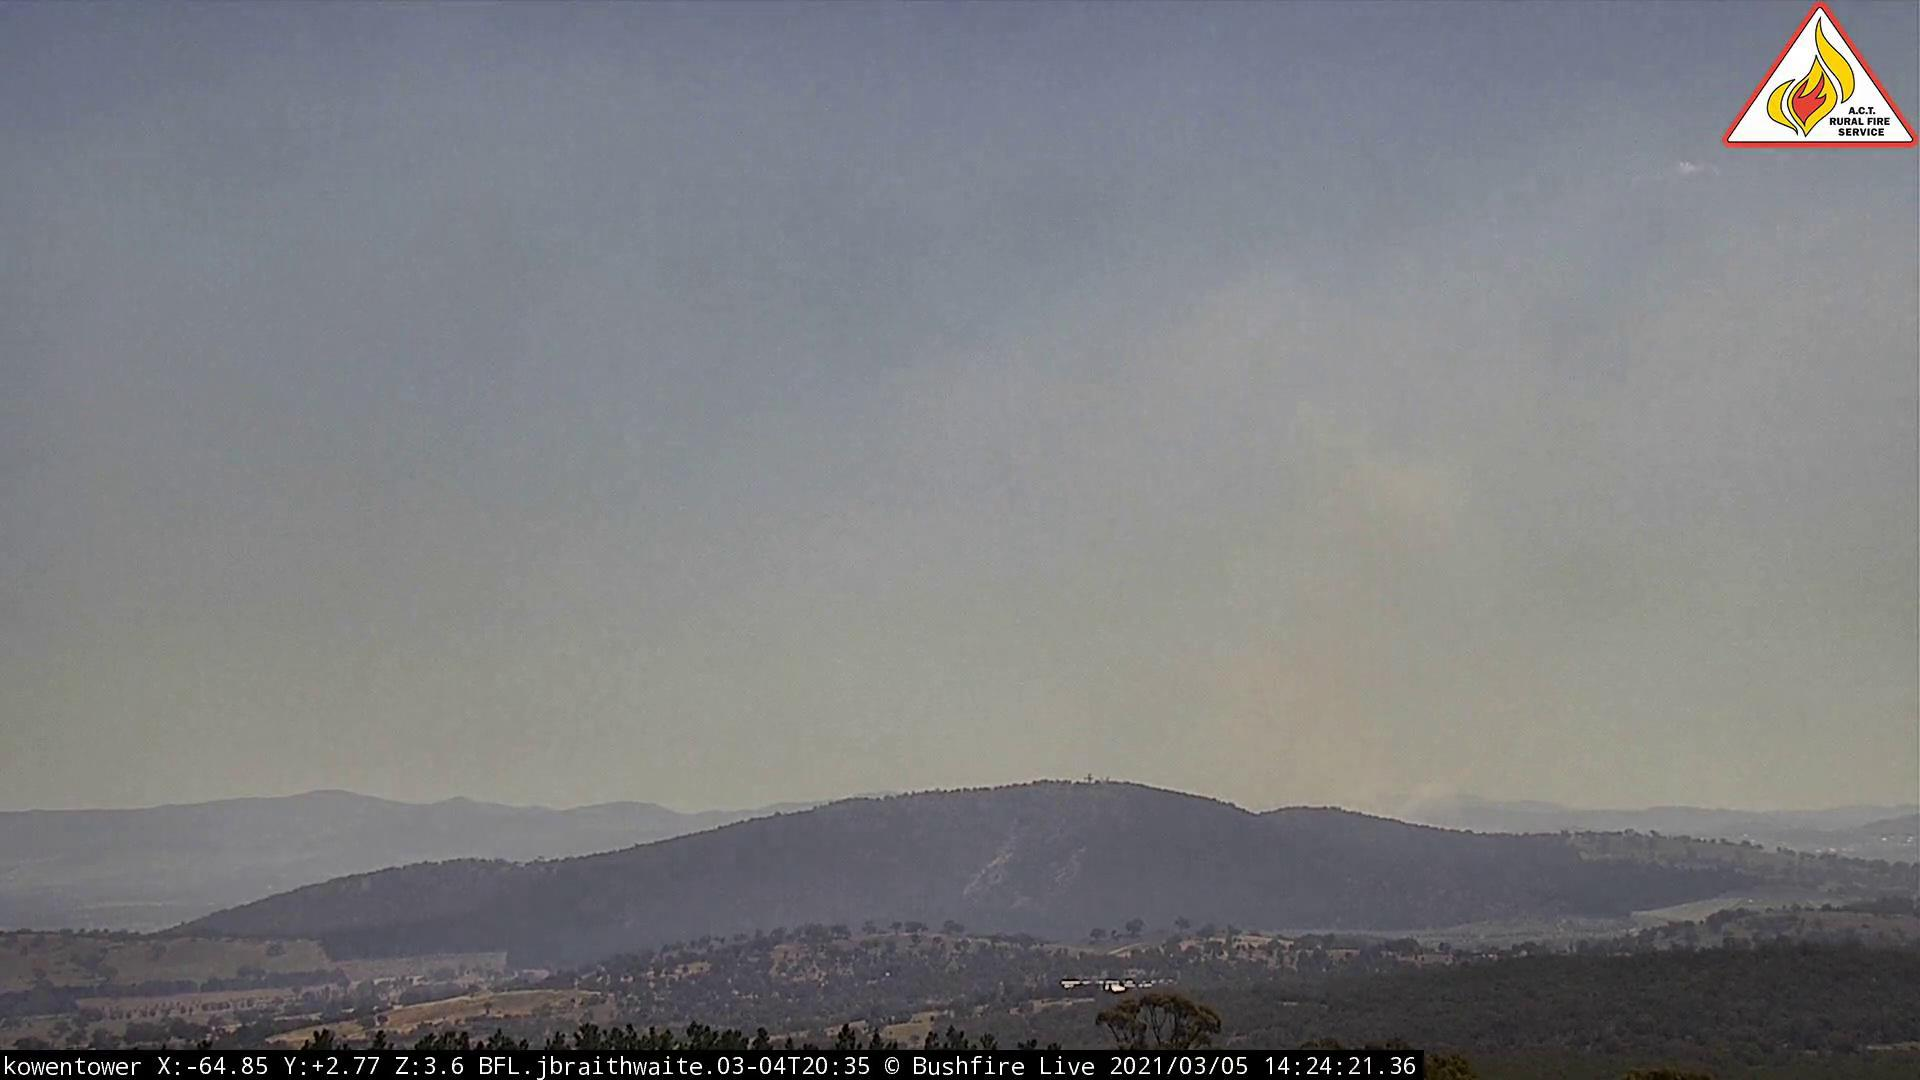Smoke: (1193, 433, 1567, 829)
